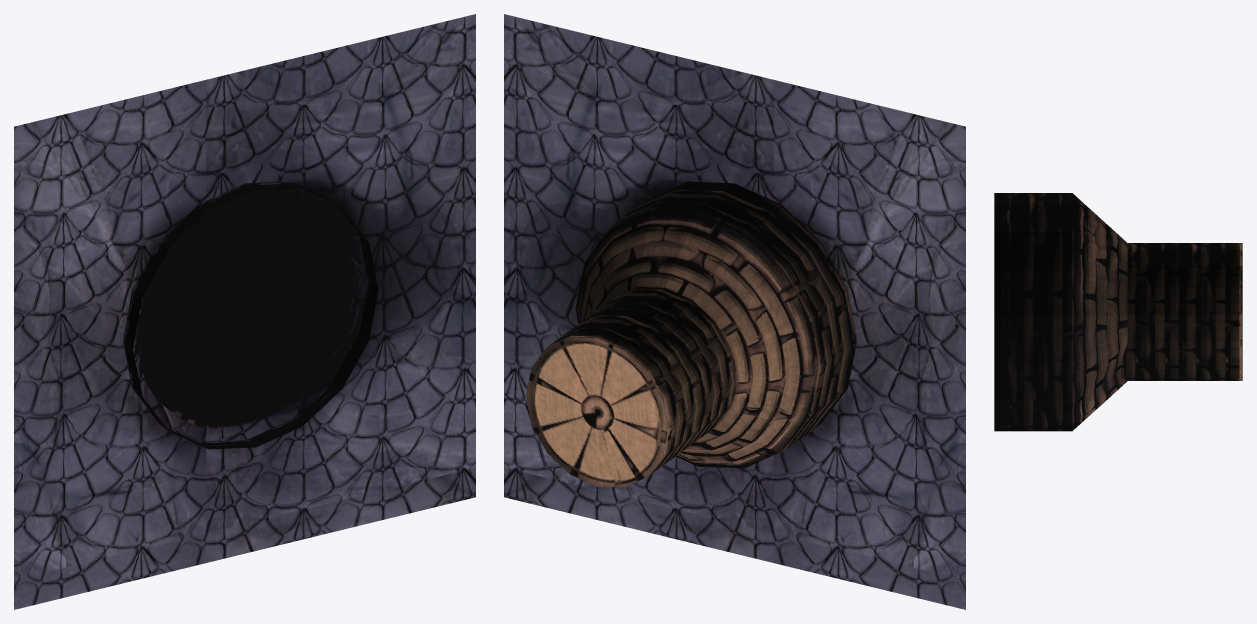
File: ex_Column0.obj
The picture shows the model from 3 angles, left to right: view 1: azimuth 30°, elevation 25°; view 2: azimuth 150°, elevation 25°; view 3: azimuth 270°, elevation 25°; orthographic projection. The views are drawn at different scales.
Visible parts, largest first — view 1: ex_Column0.001_Cylinder.004; view 2: ex_Column0.001_Cylinder.004; view 3: ex_Column0.001_Cylinder.004.
Boxes of the visible parts, left/top/right/bottom form: ex_Column0.001_Cylinder.004: left=14, top=14, right=475, bottom=609; ex_Column0.001_Cylinder.004: left=504, top=14, right=965, bottom=609; ex_Column0.001_Cylinder.004: left=994, top=193, right=1242, bottom=431.
Size of the model in its own units: 256 by 256 by 142.
